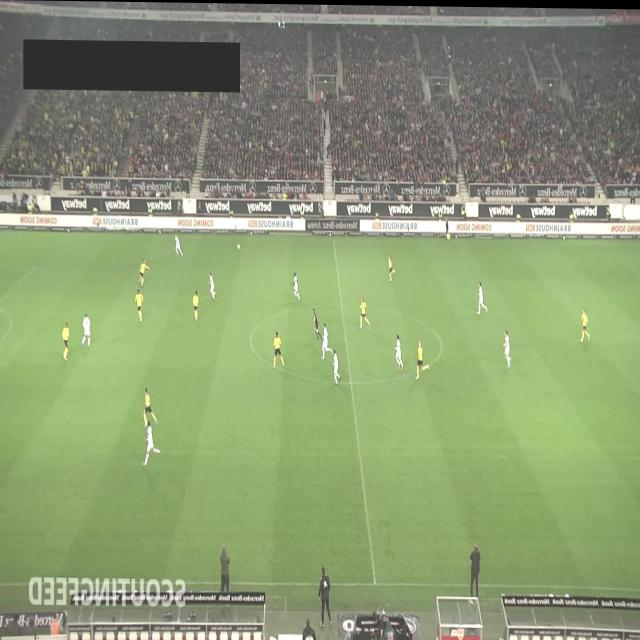player: (141, 418, 161, 466), (416, 339, 430, 379), (144, 387, 158, 425), (272, 330, 286, 367), (320, 321, 332, 359), (359, 294, 371, 328), (476, 280, 488, 314), (502, 328, 512, 366), (579, 307, 590, 341), (394, 333, 404, 369), (81, 312, 91, 348), (134, 288, 144, 322), (138, 258, 150, 286), (332, 347, 341, 384), (62, 321, 70, 360), (291, 271, 301, 300), (192, 289, 200, 321), (208, 271, 216, 300), (388, 254, 396, 280), (174, 234, 183, 257)
referee: (312, 307, 321, 337), (446, 216, 450, 238)
